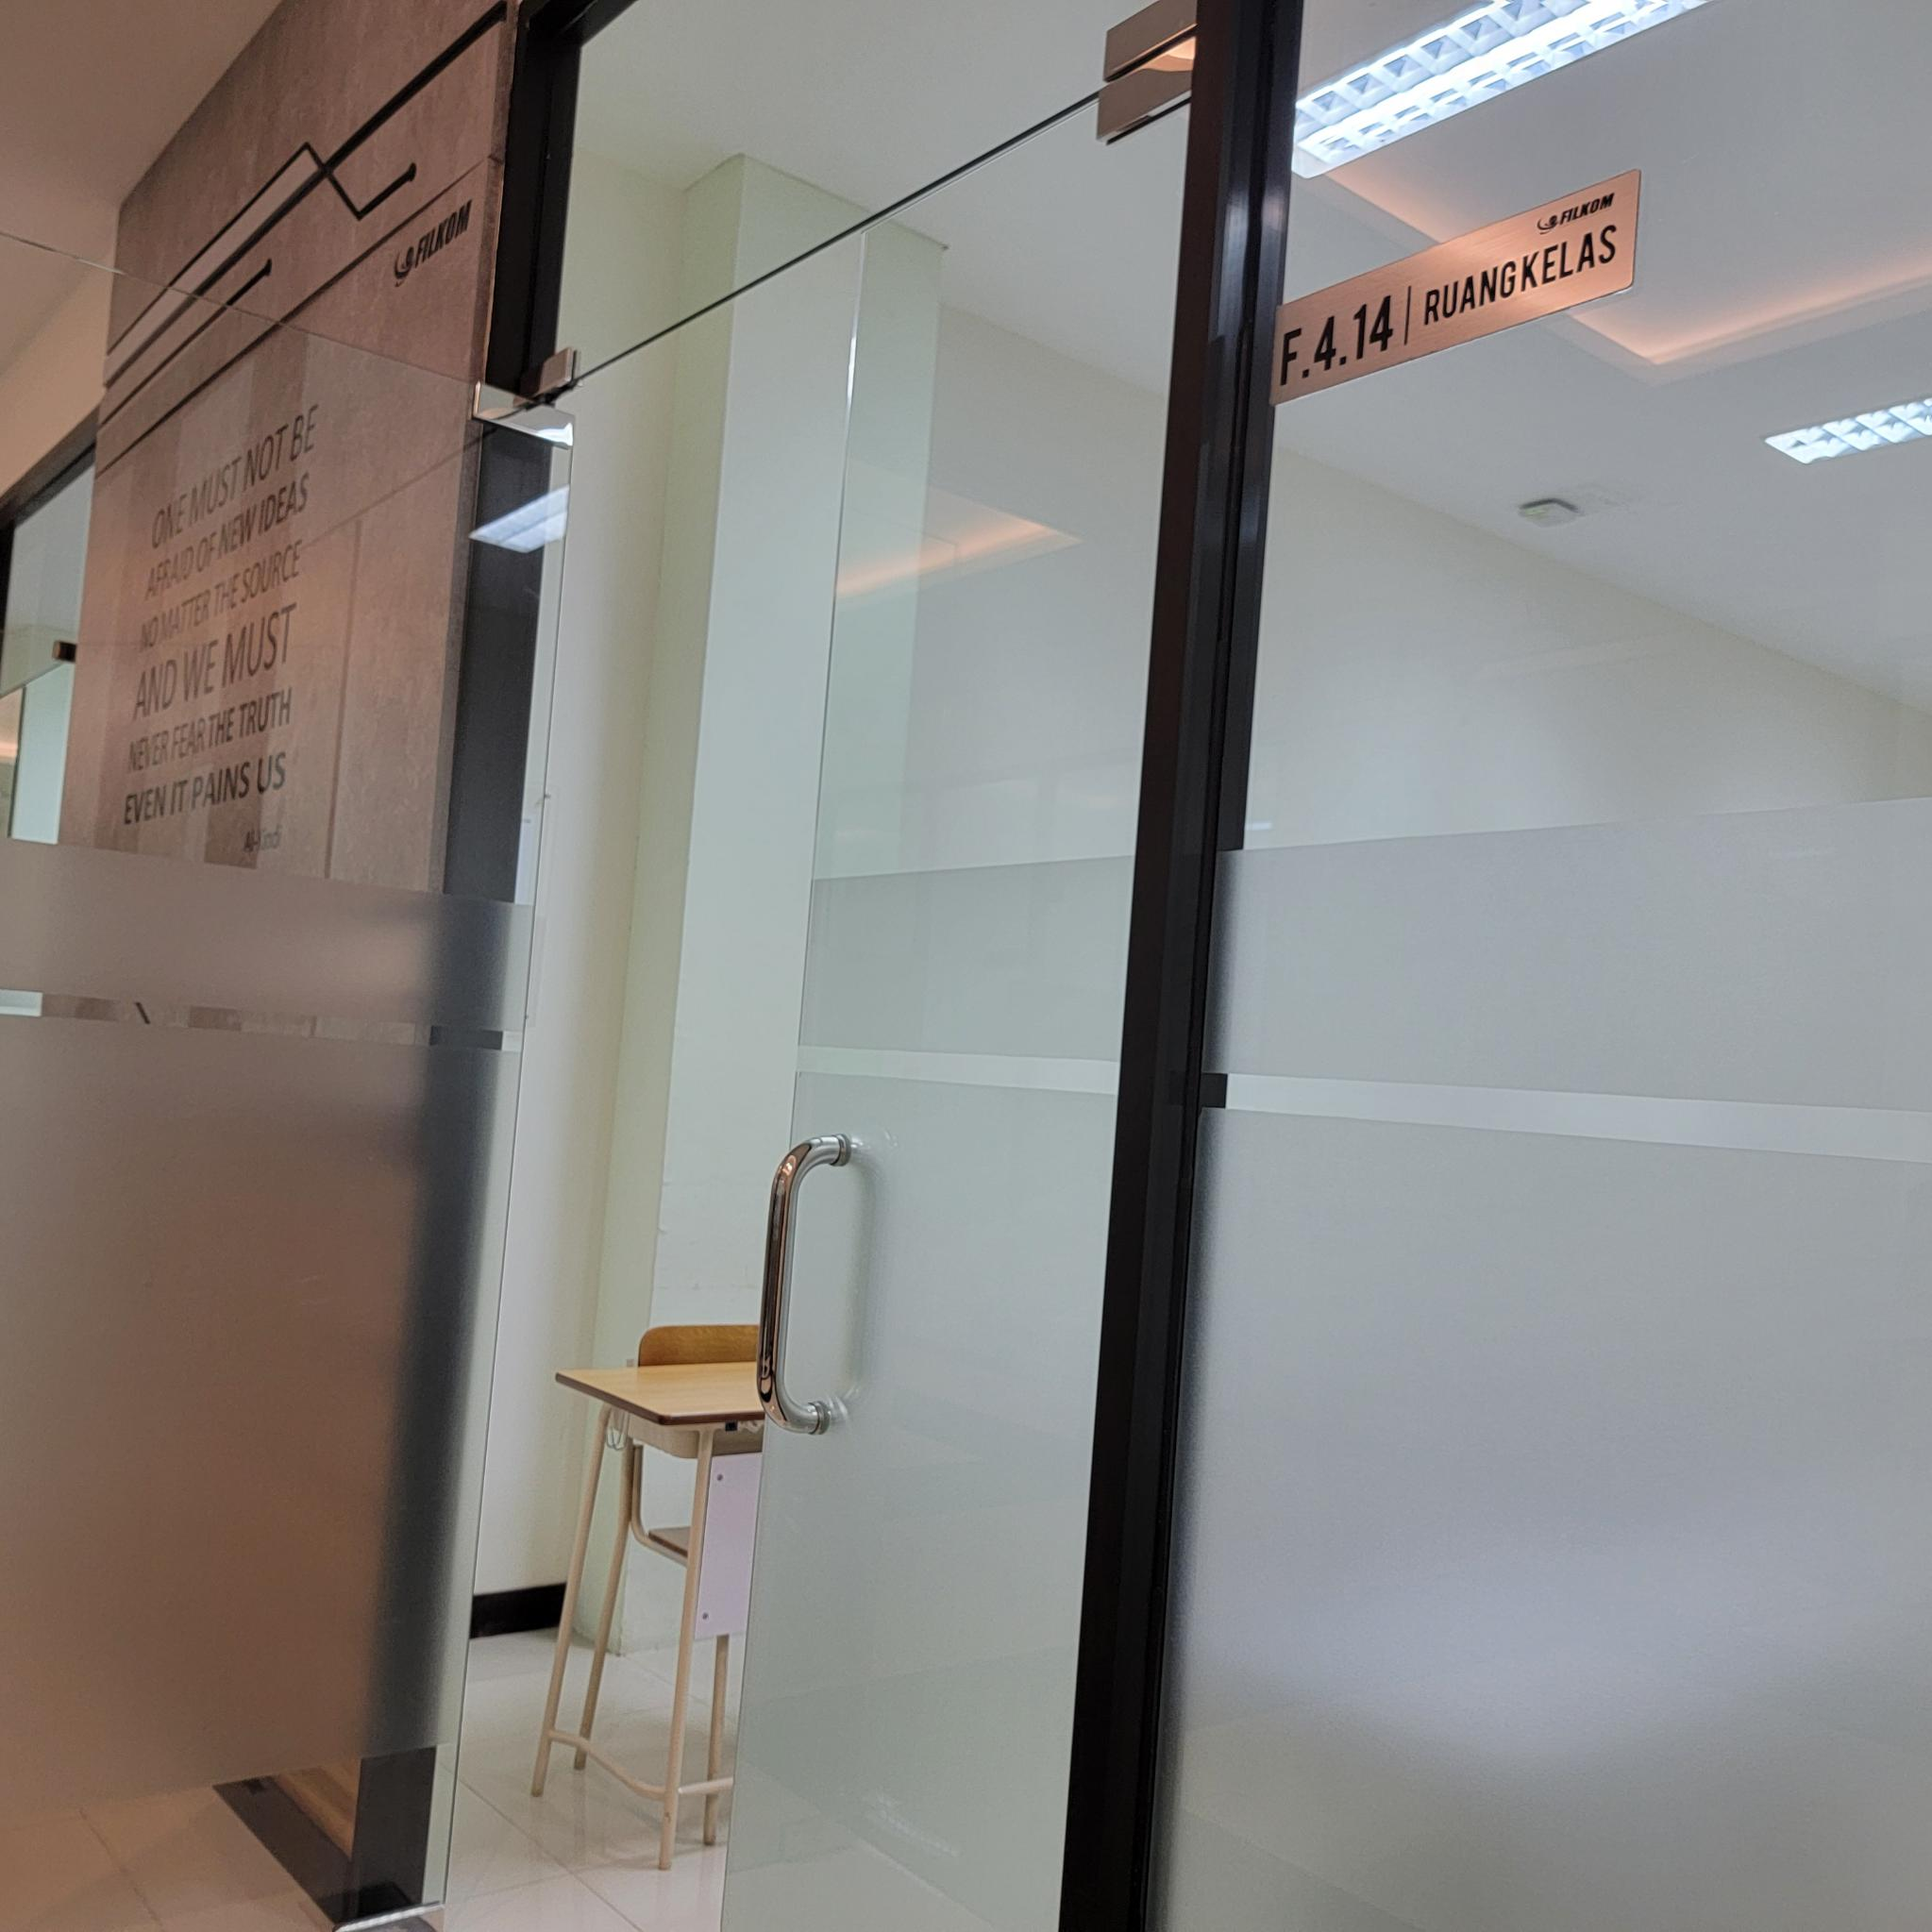plate: (1265, 166, 1645, 409)
